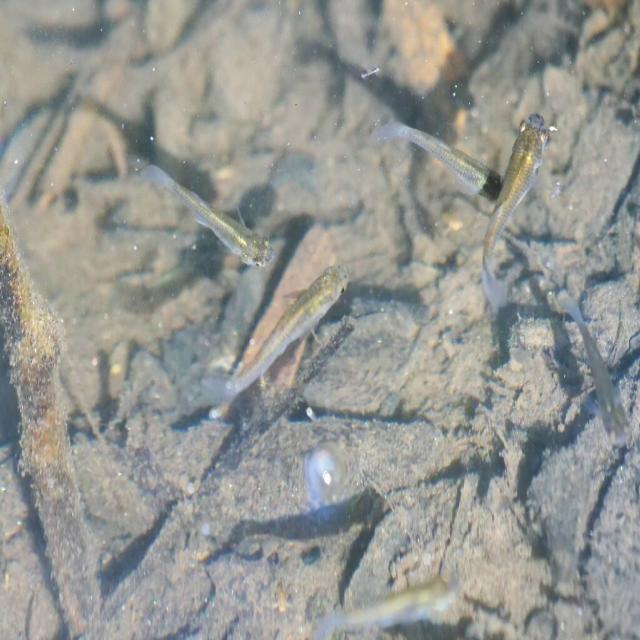Sivrisinek Baligi: (204, 262, 344, 402), (138, 156, 288, 264), (475, 115, 547, 316), (564, 294, 634, 452), (380, 119, 506, 201)
